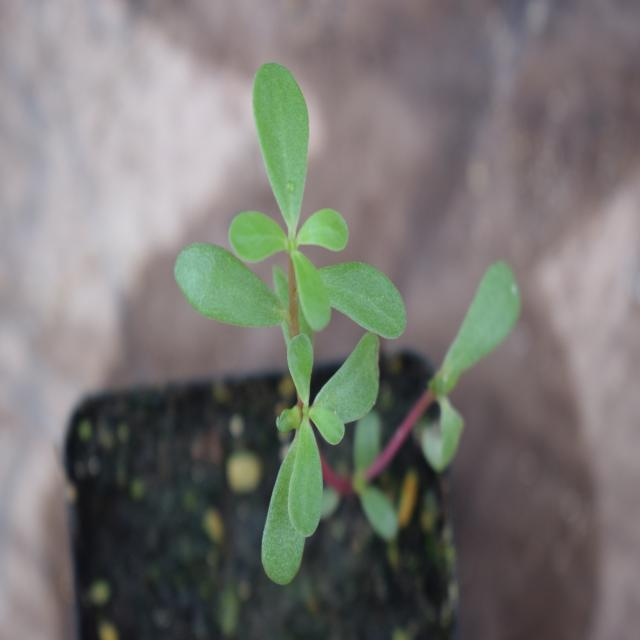purslane: (174, 69, 515, 573)
